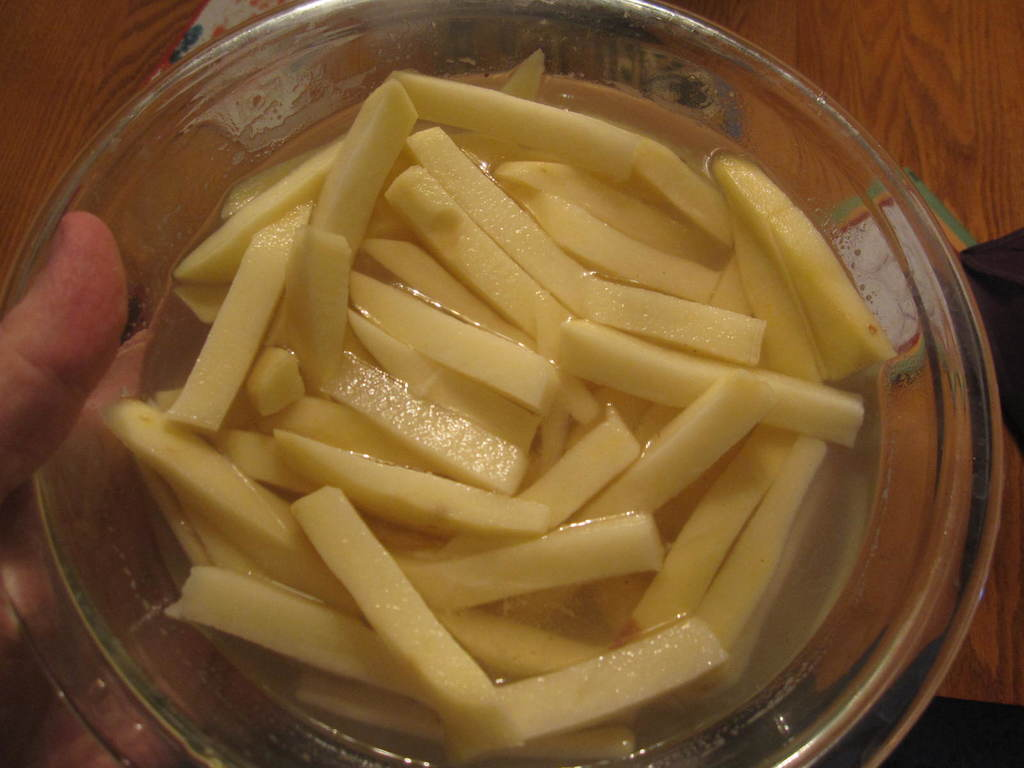French fries: (113, 53, 896, 767)
